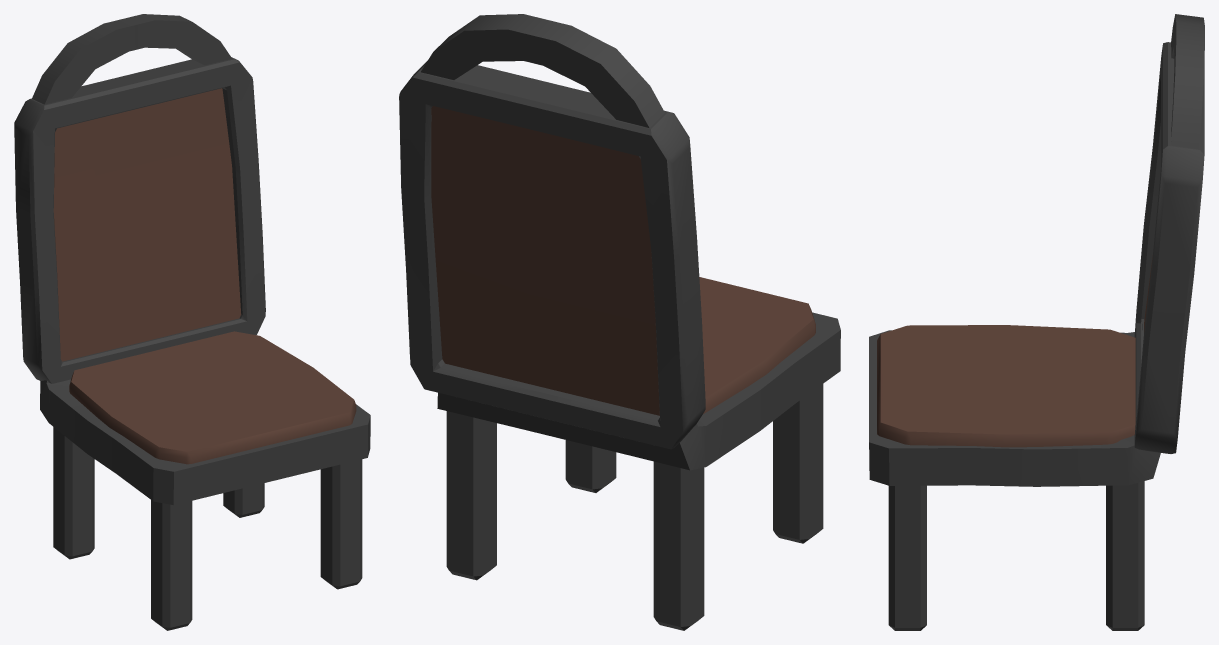
The model's file is ChairLV1_Good.fbx.
3 renders of one model, left to right at view 1: azimuth 30°, elevation 25°; view 2: azimuth 150°, elevation 25°; view 3: azimuth 270°, elevation 25°, orthographic. The views are drawn at different scales.
Parts seen in each view (by area): view 1: Chair_single; view 2: Chair_single; view 3: Chair_single.
Part boxes in pixels (x1,y1,x2,y2): Chair_single: [14, 14, 370, 630]; Chair_single: [399, 14, 840, 630]; Chair_single: [869, 14, 1204, 630].
Size of the model in its own units: 0.7411 by 1.52 by 0.8479.
